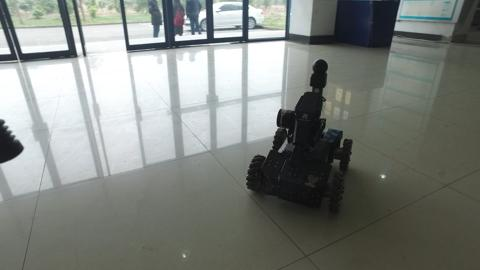car: (180, 1, 267, 32)
chariot: (244, 56, 353, 215)
